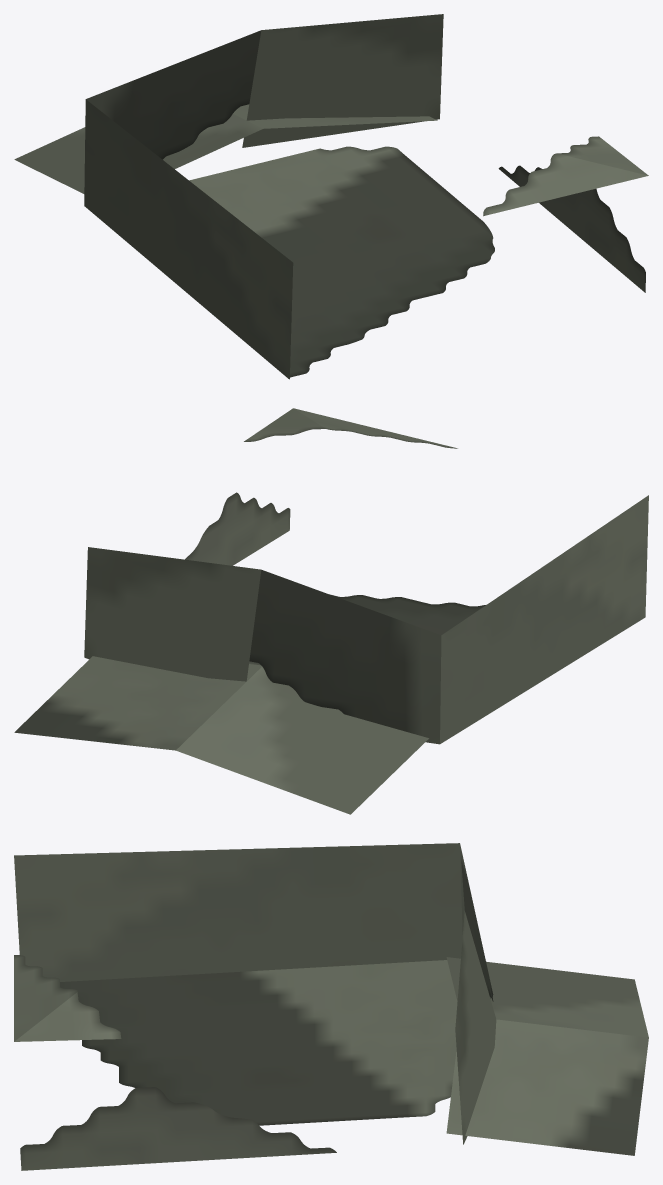
Rendered from cap_h.obj.
3 views of the same model, one above another, from view 1: azimuth 30°, elevation 25°; view 2: azimuth 150°, elevation 25°; view 3: azimuth 270°, elevation 25° (orthographic). The views are drawn at different scales.
Parts seen in each view (by area): view 1: mesh; view 2: mesh; view 3: mesh.
Boxes of the visible parts, <box> form: mesh: <box>14,14,648,379</box>; mesh: <box>14,408,648,814</box>; mesh: <box>14,843,648,1170</box>.
Size of the model in its own units: 0.5813 by 0.2584 by 0.8362.
